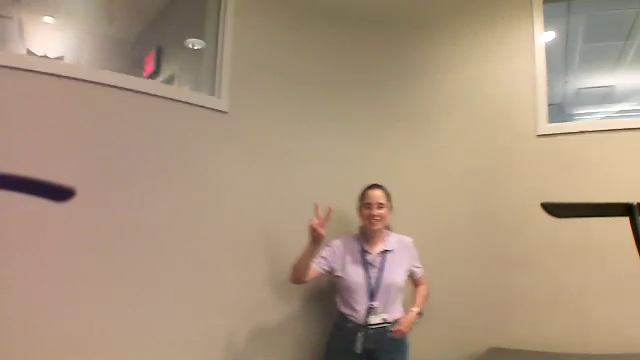peace: (302, 196, 337, 244)
